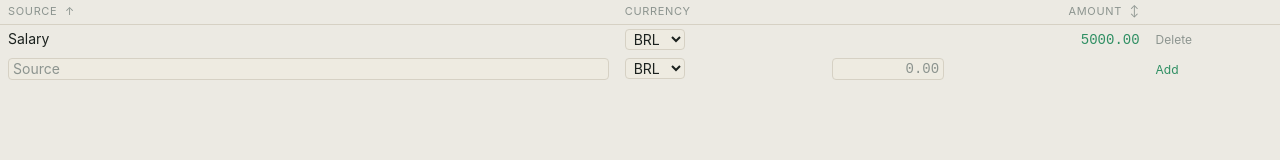
Scenario: IncomeList — inline editing › shows input when source cell is clicked
The width and height of the screenshot is (1280, 160).
Click the cell with test id "source-i1".
click(29, 39)  # box [0,24,617,54]
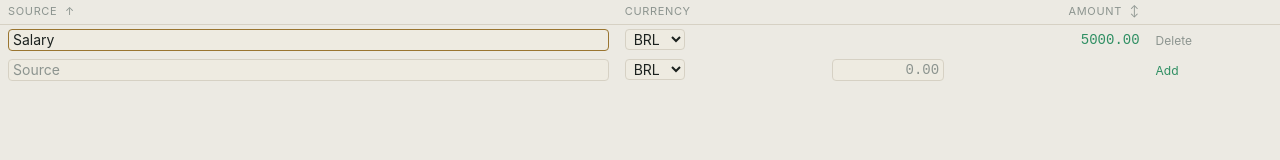
Now the field showing "Salary" is shown, box [8,29,609,51]
